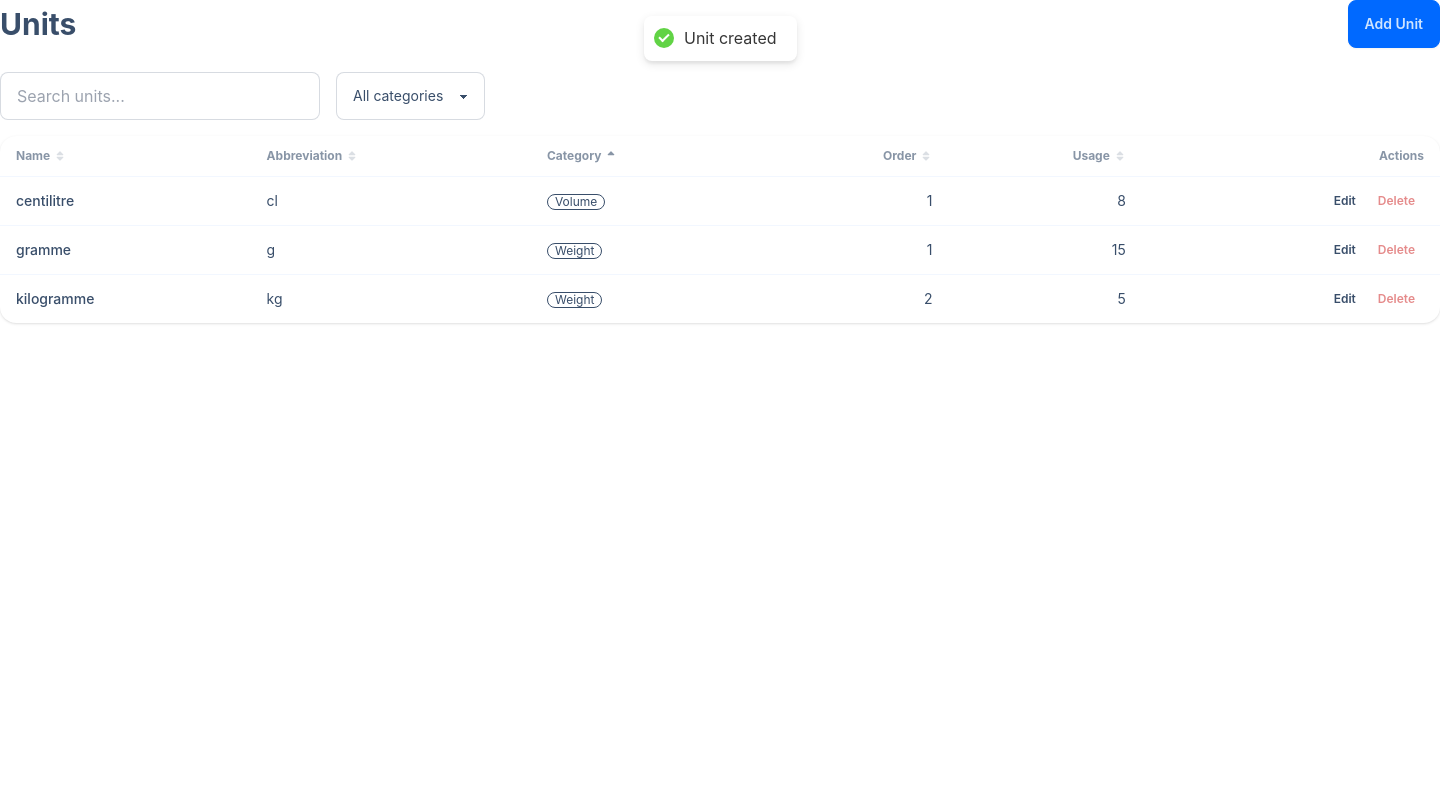
Test case: AdminUnitsPage › should delete a unit after confirmation
This screenshot has width=1440, height=810.
Expected: the text "gramme" is shown, 0,226 -> 251,274
Click the button "Delete" in the row of "centilitre".
click(1396, 201)  # box 1369,189 -> 1424,213
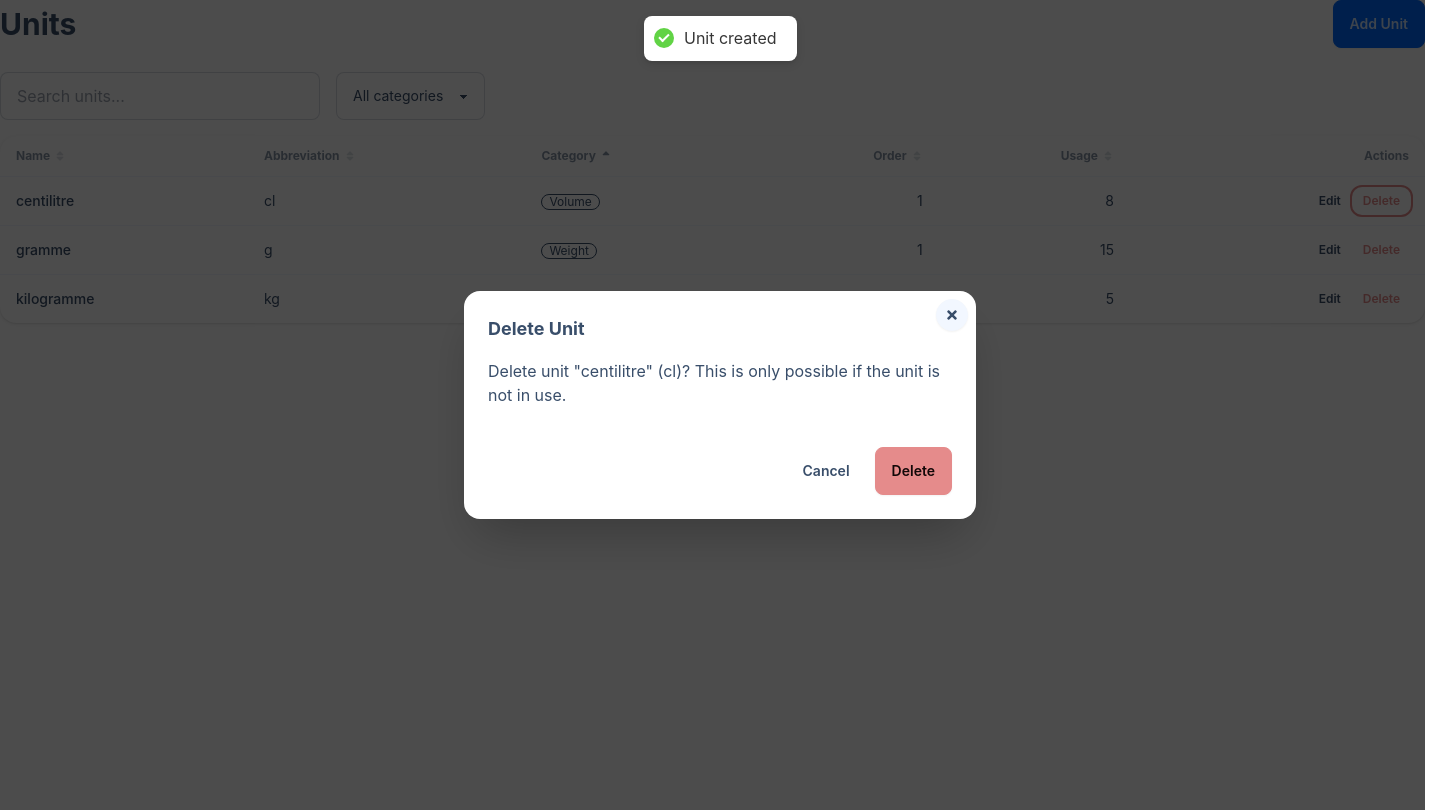
Expected: the text "Delete unit" is shown, 488,361 -> 940,405
Click the button "Delete".
click(913, 471)  # box 875,447 -> 952,495
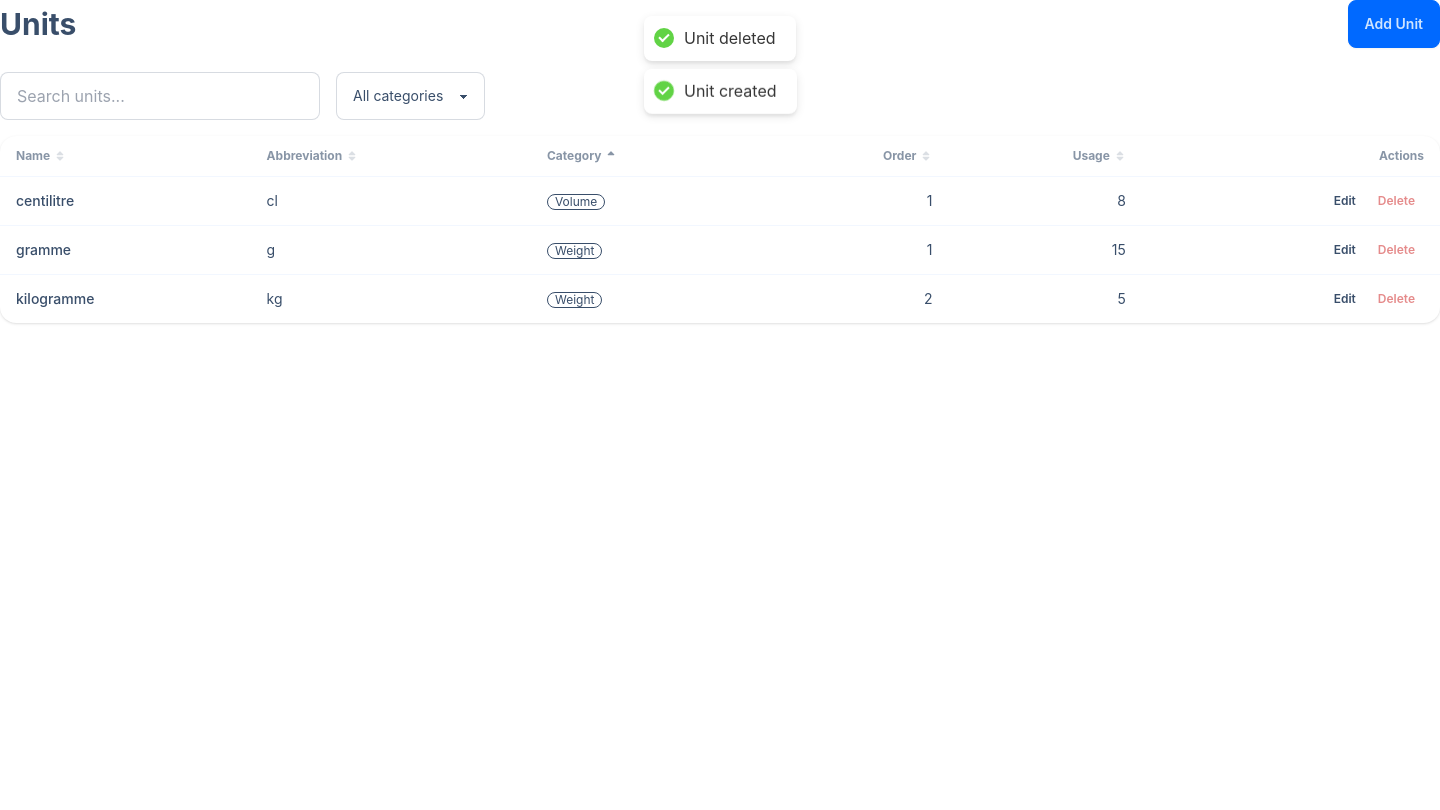
Expected: the text "Unit deleted" is shown, 684,28 -> 776,49
